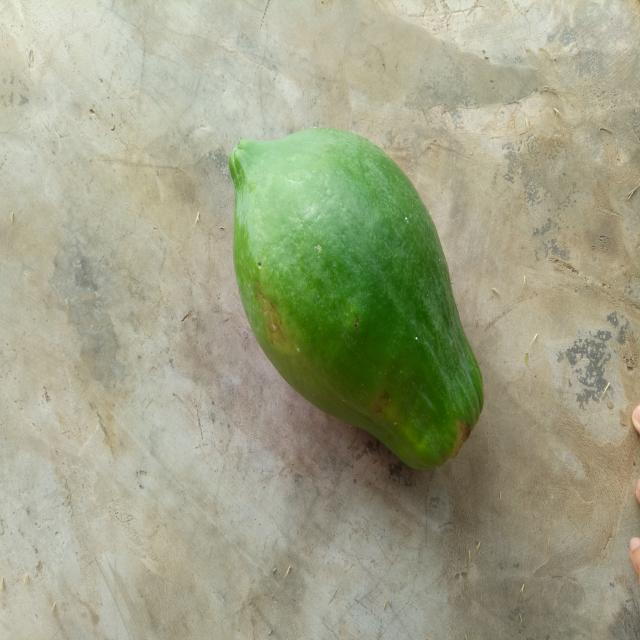Pepaya unrippen: (220, 113, 495, 487)
